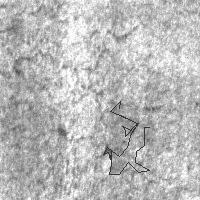crazing: (11, 50, 162, 175), (3, 3, 148, 56), (103, 101, 149, 174)
